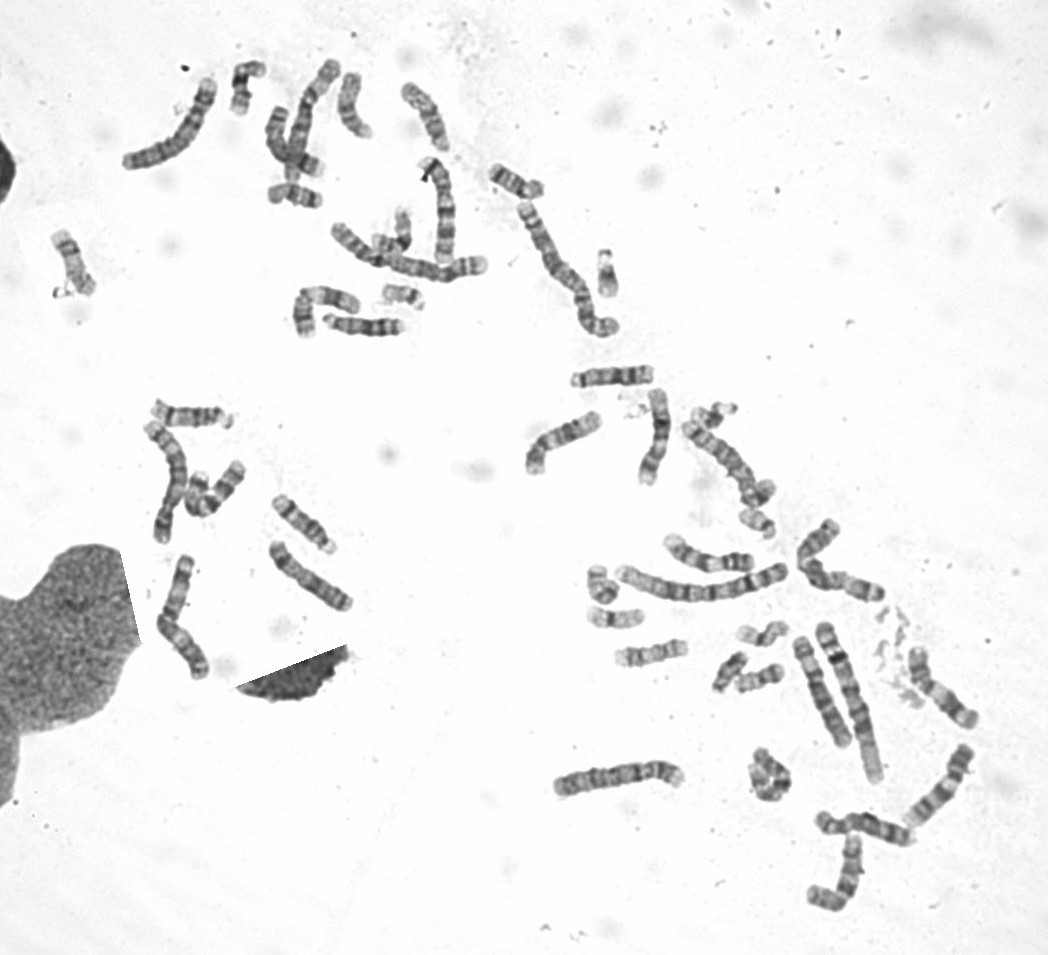chromosomes: (514, 200, 625, 347), (811, 616, 889, 787), (108, 72, 221, 178), (679, 416, 781, 517), (329, 221, 488, 284), (282, 54, 348, 185), (797, 518, 889, 607), (792, 629, 857, 754), (156, 550, 214, 686), (901, 737, 979, 833), (906, 642, 986, 734), (621, 562, 792, 605), (266, 539, 359, 615), (518, 407, 603, 487), (142, 416, 192, 546), (546, 757, 687, 803), (803, 829, 871, 918), (416, 154, 464, 269), (267, 103, 333, 184), (813, 803, 921, 851), (399, 76, 459, 160), (271, 492, 341, 559), (287, 283, 363, 343), (47, 218, 100, 303), (658, 533, 758, 576), (182, 456, 248, 520), (635, 386, 671, 490), (148, 395, 239, 434), (745, 744, 795, 808), (566, 361, 660, 395), (336, 70, 378, 143), (479, 159, 550, 202), (609, 638, 691, 673), (232, 51, 269, 122), (318, 312, 414, 338), (702, 650, 752, 698), (368, 204, 414, 252), (587, 602, 651, 636), (266, 183, 330, 214), (581, 563, 624, 609), (591, 247, 622, 303), (733, 666, 792, 695), (381, 278, 428, 313), (734, 620, 792, 648), (735, 508, 780, 542), (690, 402, 743, 429)
